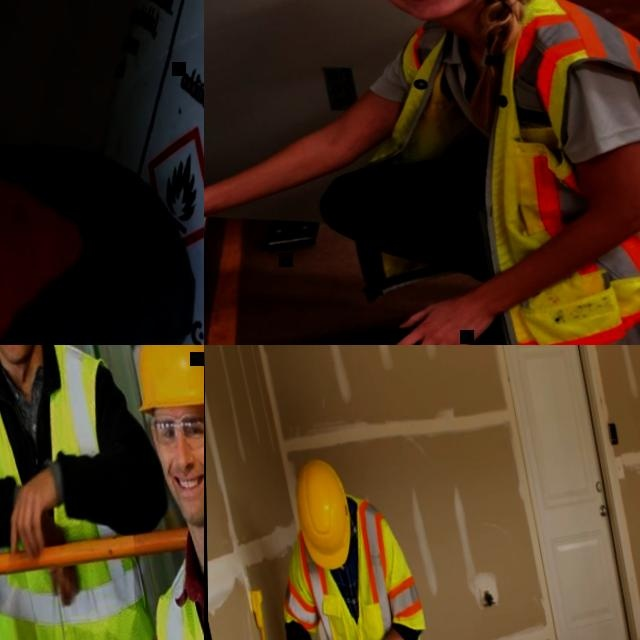Hardhat: (287, 452, 359, 574), (122, 345, 204, 424)
NO-Mask: (164, 455, 204, 525), (392, 0, 490, 23), (0, 345, 42, 366)
Person: (204, 0, 640, 345), (0, 345, 204, 640), (6, 345, 204, 640), (251, 436, 494, 640)
Safety Vest: (307, 0, 640, 345), (0, 345, 171, 640), (262, 485, 436, 640), (136, 492, 204, 640)
